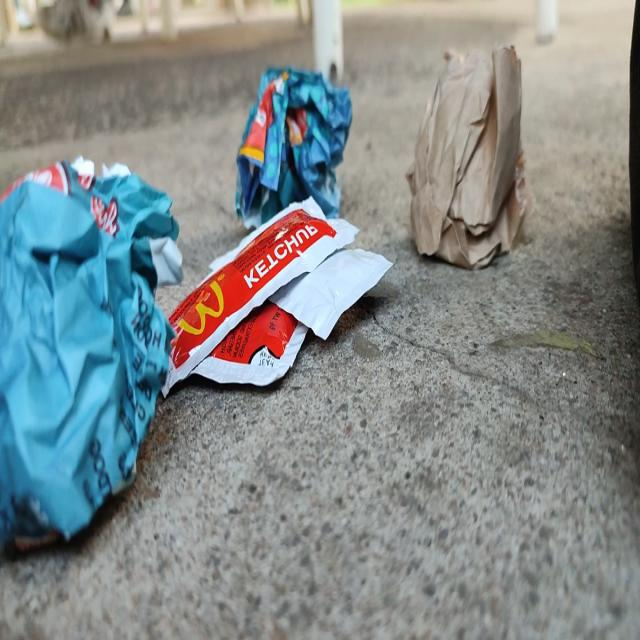paper: (0, 130, 197, 562), (400, 16, 544, 286), (227, 54, 362, 228)
